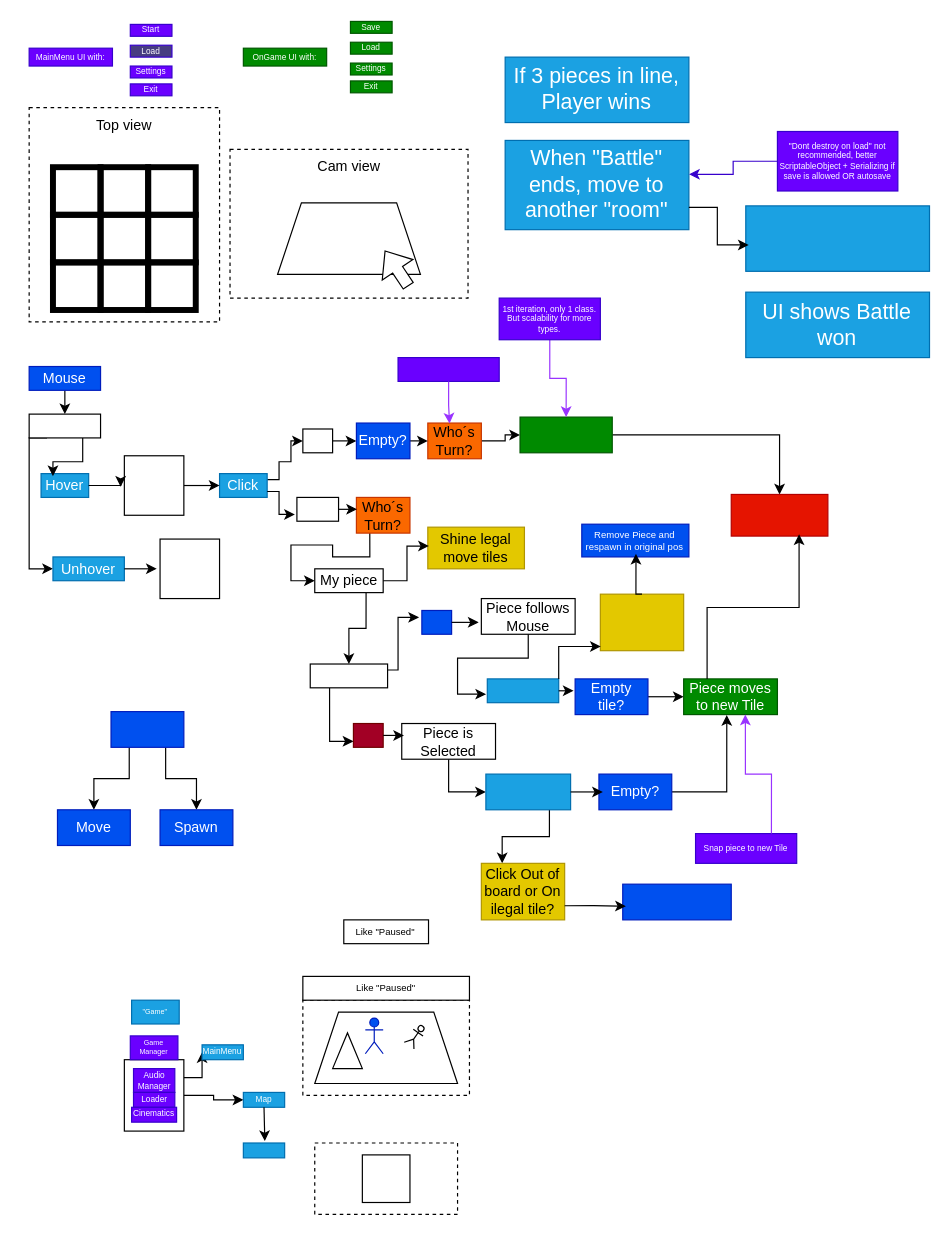
Image size: 951x1235. Some labels were removed from this diagram. Each missing label, with the centre of its shape:
Actions: the point at 147,728
Another Tile is clicked: the point at 528,791
Battle: the point at 263,1150
Click hold?: the point at 348,675
Drop Out of board or On ilegal tile?: the point at 641,622
End Turn: the point at 779,514
Many "rooms", like a "roguelike".: the point at 837,238
Mouse input only allowed when Player 1 turn: the point at 448,368
no: the point at 367,734
Piece: the point at 317,508
Raycast: the point at 64,425
Release: the point at 522,690
Scale Down/ UnShine: the point at 189,568
Scale Up/ Shine: the point at 153,485
Spawn a Piece of current Player: the point at 565,434
Tile: the point at 317,440
Unselect current Piece: the point at 676,901
yes: the point at 436,621
